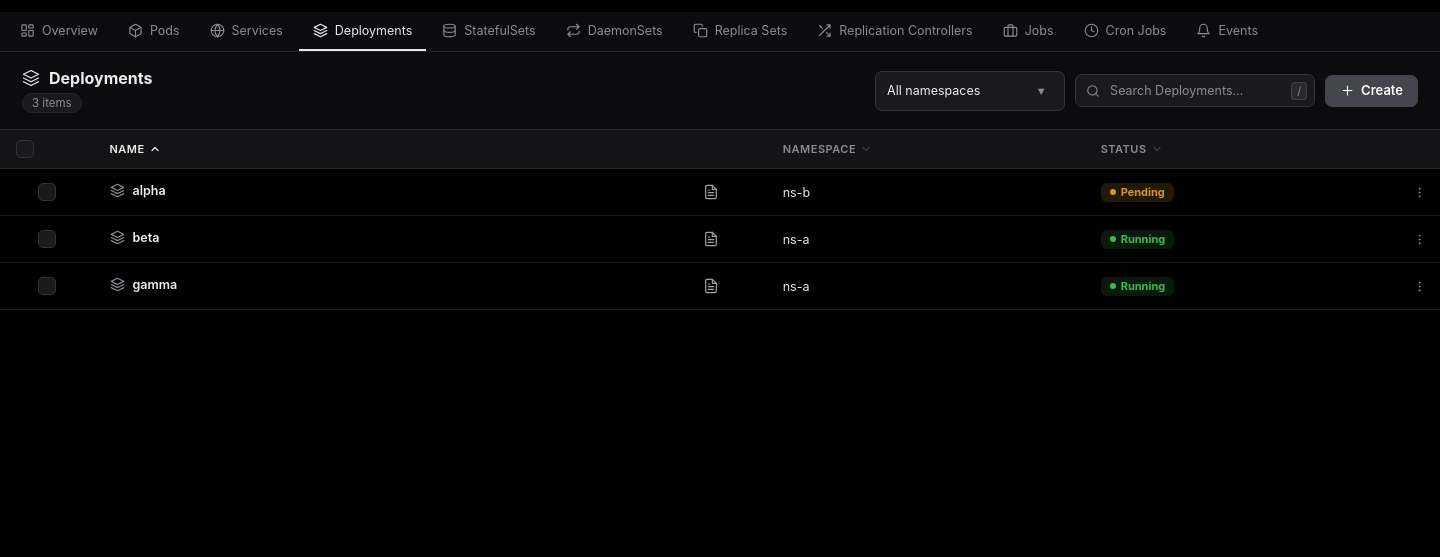
Test case: ResourceViewer › deployments: a Logs button beside each name opens the deployment's logs (not the drawer)
Click the button named "Logs for alpha": (711, 192) x1=697 y1=178 x2=725 y2=206
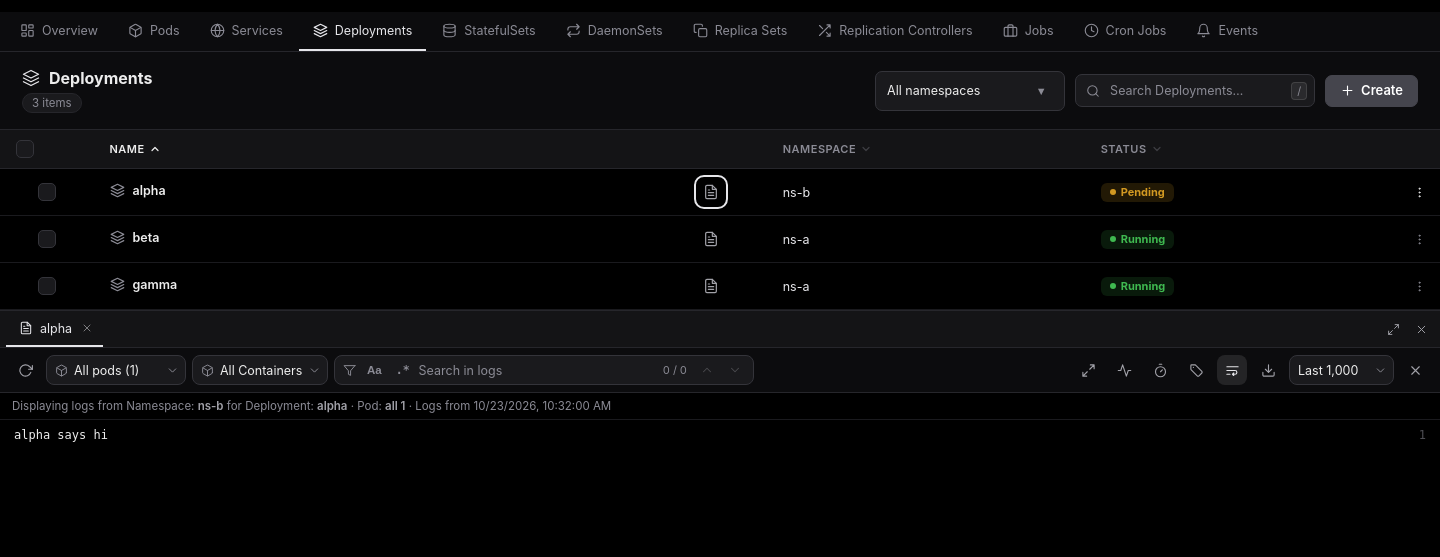
Check: the text "alpha says hi" is shown, box x1=14 y1=428 x2=108 y2=442
Check: the 1st dropdown named "Pod" is shown, box x1=74 y1=356 x2=177 y2=384
Click the button named "Actions for gamma": (1419, 286) x1=1406 y1=274 x2=1432 y2=298
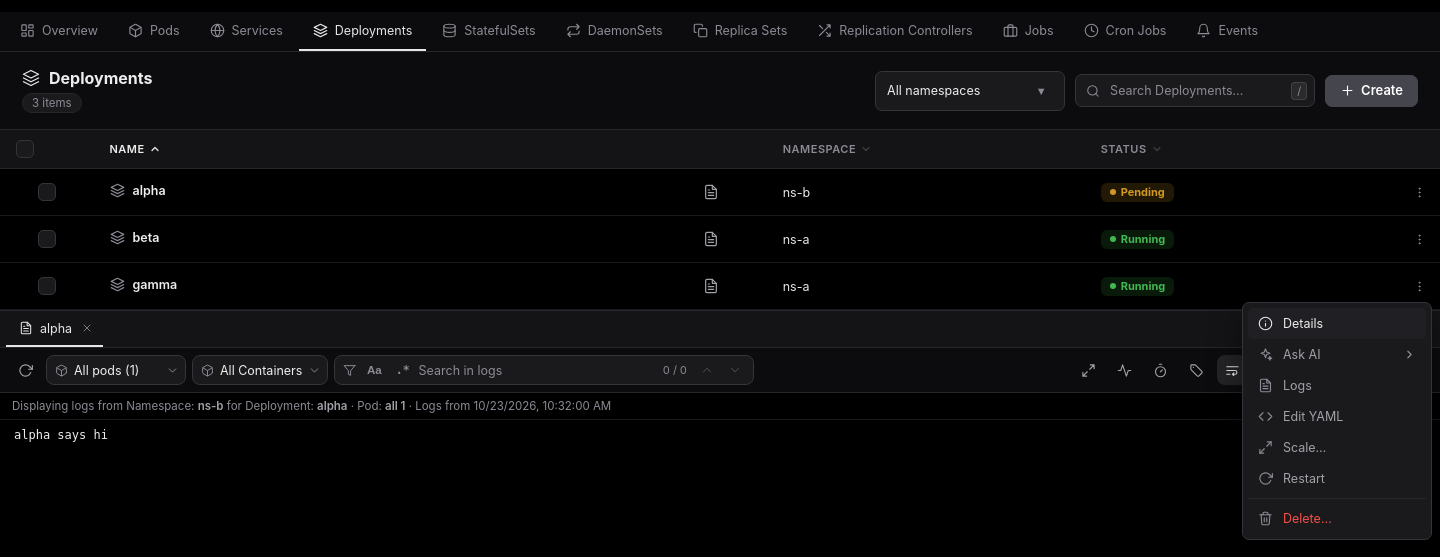
Check: the menu item "Logs" is shown, box x1=1248 y1=370 x2=1426 y2=401
